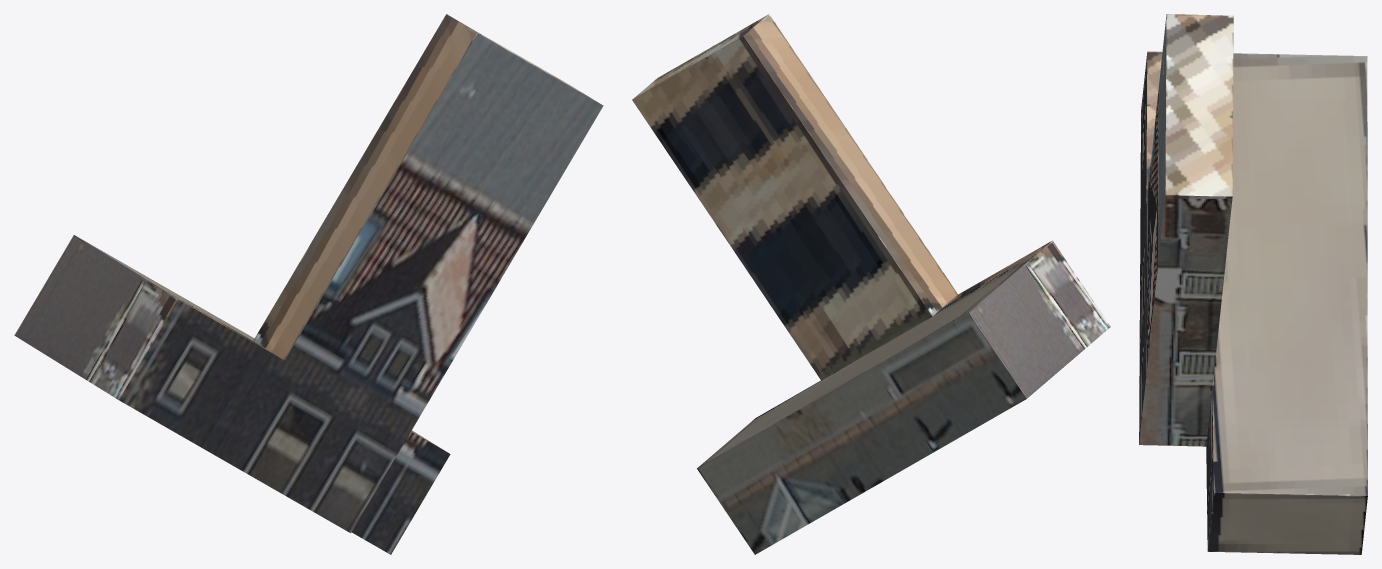
The picture shows the model from 3 angles, left to right: view 1: azimuth 30°, elevation 25°; view 2: azimuth 150°, elevation 25°; view 3: azimuth 270°, elevation 25°; orthographic projection. The views are drawn at different scales.
Parts seen in each view (by area): view 1: BAG_0599100100019944 (×3); view 2: BAG_0599100100019944 (×3); view 3: BAG_0599100100019944 (×3).
Boxes of the visible parts, x1,y1,x2,y2 form: BAG_0599100100019944 (×3): (14,14,603,554); BAG_0599100100019944 (×3): (632,14,1110,554); BAG_0599100100019944 (×3): (1139,14,1367,554).
Size of the model in its own units: 11.48 by 11.45 by 4.09.
Materials: 3 (3 with a texture image).
